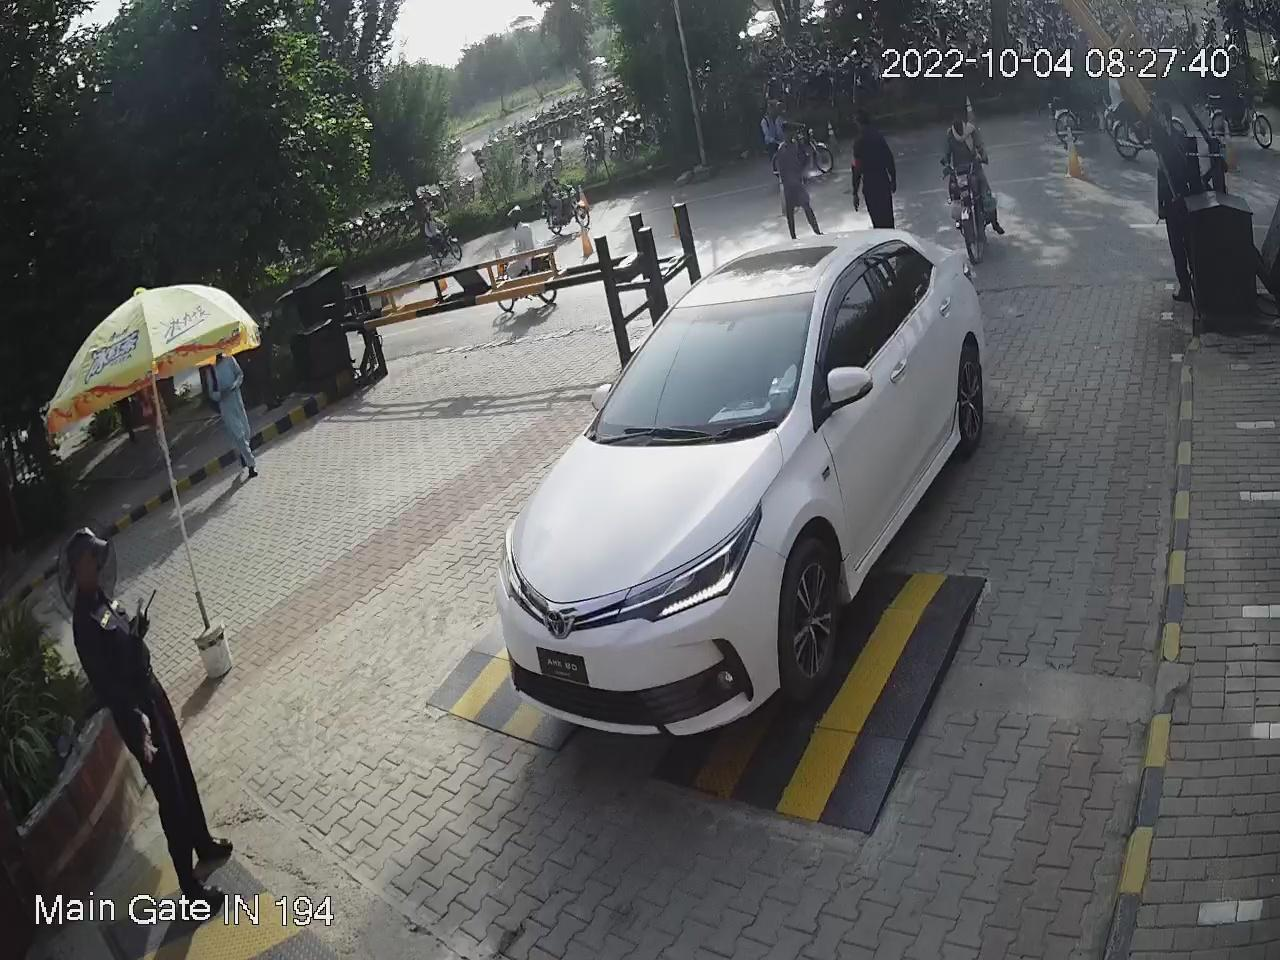windshield: (588, 285, 825, 458)
